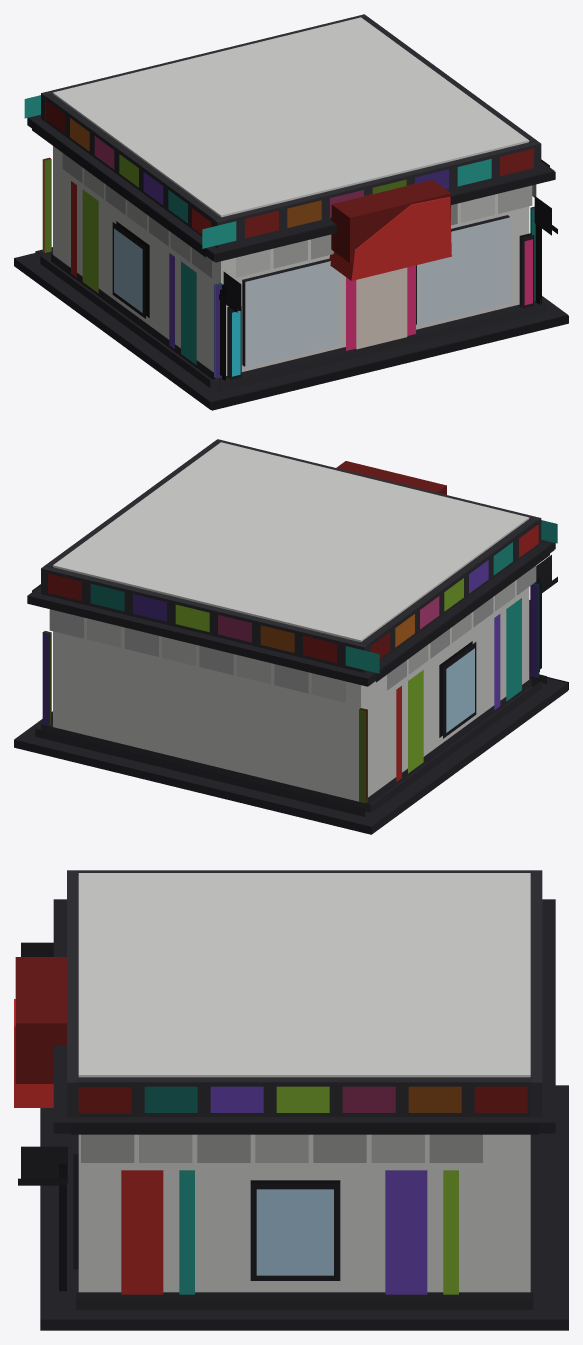
File: SneakerTenantSil.fbx
3 renders of one model, top to bottom at view 1: azimuth 30°, elevation 25°; view 2: azimuth 150°, elevation 25°; view 3: azimuth 270°, elevation 25°, orthographic. The views are drawn at different scales.
Parts seen in each view (by area): view 1: SN_S_All; view 2: SN_S_All; view 3: SN_S_All.
Boxes of the visible parts, bbox=[...] form: SN_S_All: bbox=[14, 14, 568, 410]; SN_S_All: bbox=[14, 439, 568, 834]; SN_S_All: bbox=[14, 870, 568, 1330].
Size of the model in its own units: 42.04 by 20 by 42.04.
